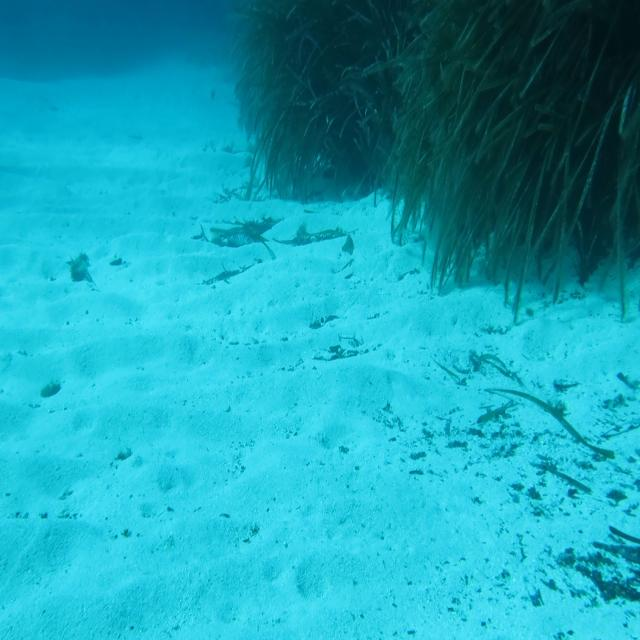SA: (339, 233, 355, 258)
vegetation: (259, 0, 640, 194), (427, 193, 640, 301)
